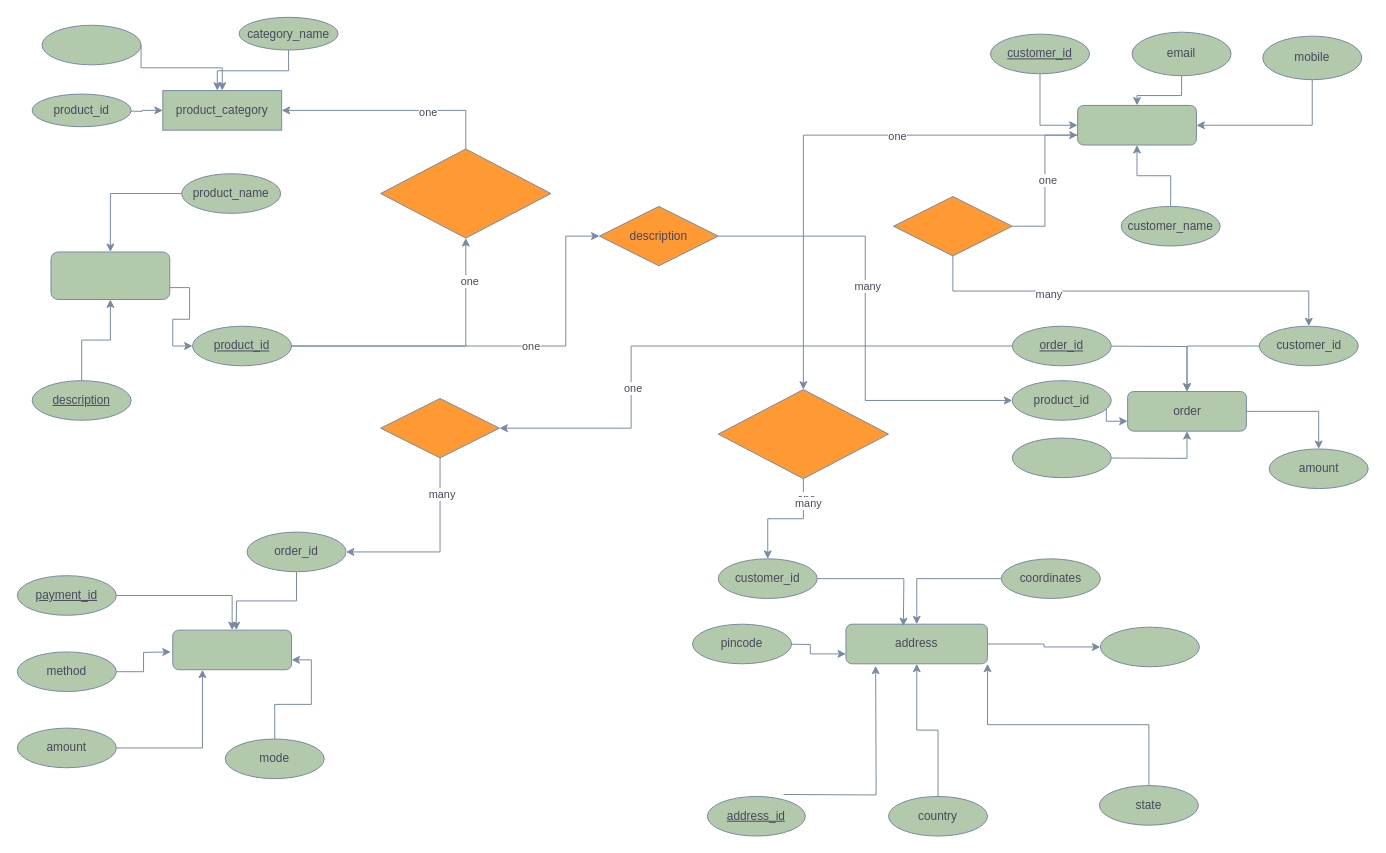
This 1386x853 diagram has some shape labels left out. The shapes that lost their labels are listed below. From the top down, each one's box as (x1, y1, x2, y2) in pixels, then its label:
(41, 24, 141, 65): category_id
(1077, 104, 1196, 145): customer
(380, 148, 551, 238): product_segment
(892, 196, 1012, 256): purchased by
(50, 251, 170, 299): product
(380, 397, 499, 458): payment_details
(717, 389, 889, 479): customer_address
(1011, 437, 1111, 478): order_date
(172, 629, 292, 670): payments
(1099, 626, 1199, 667): city
